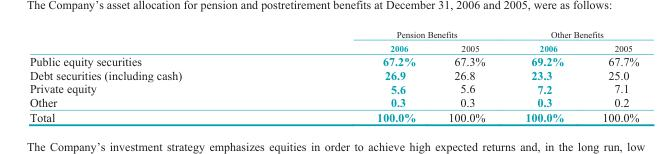table: (28, 28, 638, 123)
table column: (28, 28, 278, 123), (278, 28, 431, 123), (504, 28, 582, 123), (431, 28, 504, 123), (582, 28, 638, 123)
table column header: (28, 28, 638, 53)
table row: (28, 53, 638, 67), (28, 67, 638, 81), (28, 81, 638, 95), (28, 95, 638, 109), (28, 109, 638, 123), (28, 40, 638, 53), (28, 28, 638, 40)
table spanning cell: (278, 28, 504, 40), (504, 28, 638, 40)
